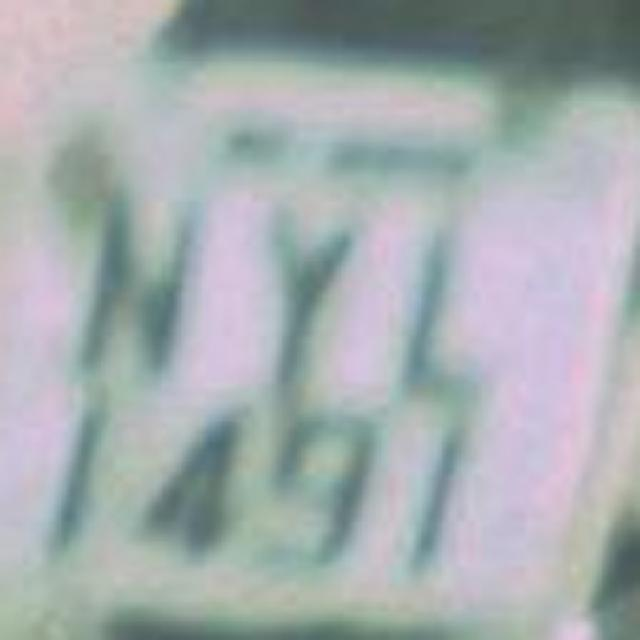1: (20, 368, 125, 560), (380, 388, 480, 584)
4: (124, 380, 248, 580)
8: (252, 389, 372, 576)
I: (380, 209, 495, 396)
N: (64, 172, 208, 380)
Y: (224, 192, 364, 396)
